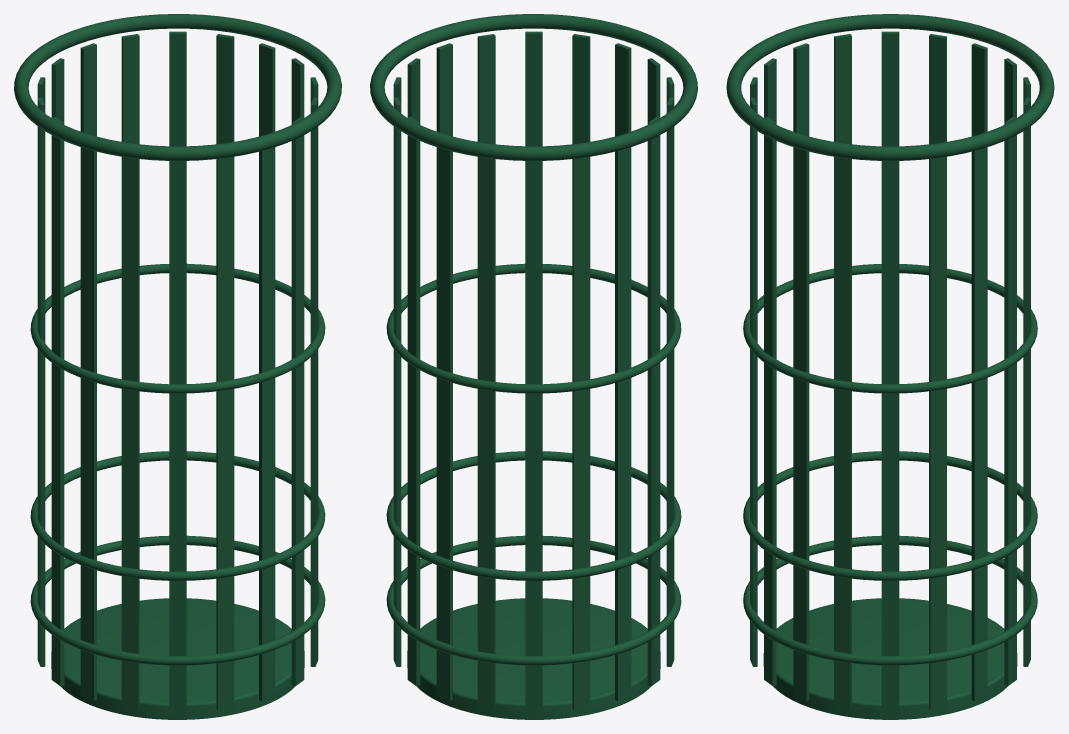
Rendered from trashcan.glb.
3 views of the same model, side by side, from view 1: azimuth 30°, elevation 25°; view 2: azimuth 150°, elevation 25°; view 3: azimuth 270°, elevation 25° (orthographic).
Visible parts, largest first — view 1: floor, rim, strap.012, strap.014, strap.013, strap.015, strap.011, strap.010, strap.016, hoop, hoop.001, hoop.002 (+9 smaller); view 2: floor, rim, strap.008, strap.006, strap.007, strap.005, strap.009, strap.010, strap.004, hoop, hoop.001, hoop.002 (+9 smaller); view 3: floor, rim, strap.001, strap.002, strap.018, strap.003, strap.017, strap.004, strap.016, hoop.001, hoop, hoop.002 (+9 smaller).
Boxes of the visible parts, x1=… form: floor: x1=51, y1=598, x2=304, y2=719; rim: x1=14, y1=14, x2=341, y2=160; strap.012: x1=121, y1=157, x2=139, y2=710; strap.014: x1=216, y1=156, x2=234, y2=710; strap.013: x1=169, y1=161, x2=186, y2=712; strap.015: x1=259, y1=147, x2=275, y2=700; strap.011: x1=80, y1=147, x2=96, y2=700; strap.010: x1=51, y1=117, x2=64, y2=685; strap.016: x1=291, y1=117, x2=304, y2=685; hoop: x1=30, y1=451, x2=325, y2=580; hoop.001: x1=30, y1=263, x2=325, y2=393; hoop.002: x1=30, y1=535, x2=325, y2=665; floor: x1=407, y1=598, x2=660, y2=719; rim: x1=370, y1=14, x2=697, y2=160; strap.008: x1=572, y1=157, x2=590, y2=710; strap.006: x1=477, y1=156, x2=495, y2=710; strap.007: x1=525, y1=161, x2=542, y2=712; strap.005: x1=436, y1=147, x2=452, y2=700; strap.009: x1=615, y1=147, x2=631, y2=700; strap.010: x1=647, y1=117, x2=660, y2=685; strap.004: x1=407, y1=117, x2=420, y2=685; hoop: x1=386, y1=451, x2=681, y2=580; hoop.001: x1=386, y1=263, x2=681, y2=393; hoop.002: x1=386, y1=535, x2=681, y2=665; floor: x1=763, y1=598, x2=1017, y2=719; rim: x1=726, y1=14, x2=1054, y2=160; strap.001: x1=881, y1=161, x2=899, y2=712; strap.002: x1=929, y1=156, x2=946, y2=710; strap.018: x1=834, y1=156, x2=851, y2=710; strap.003: x1=971, y1=147, x2=987, y2=700; strap.017: x1=793, y1=147, x2=809, y2=700; strap.004: x1=1004, y1=117, x2=1016, y2=685; strap.016: x1=764, y1=117, x2=776, y2=685; hoop.001: x1=743, y1=264, x2=1037, y2=393; hoop: x1=743, y1=451, x2=1037, y2=580; hoop.002: x1=743, y1=535, x2=1037, y2=665.
Size of the model in its own units: 0.492 by 0.969 by 0.492.
